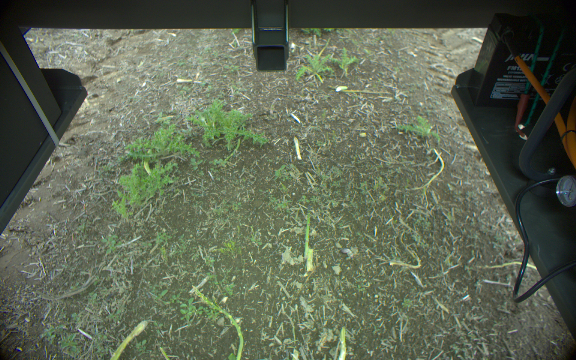aspa: (190, 285, 245, 360), (107, 319, 149, 360), (302, 203, 314, 272), (290, 135, 303, 164), (339, 324, 347, 360)
